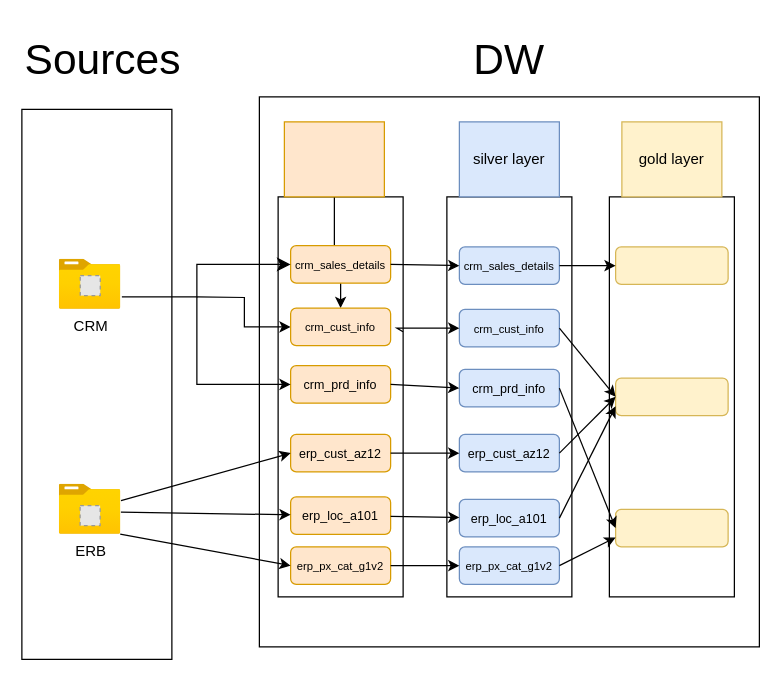
This 781x681 diagram has some shape labels left out. Grey dashed boxes stand in for pictures. Here are the shapes that lost their labels. From the top down, the centre of each, then its label:
At point 333,159: "Bronze layer".
At point 671,265: "fact_sales".
At point 671,396: "dim_customer".
At point 671,527: "dim_product".
